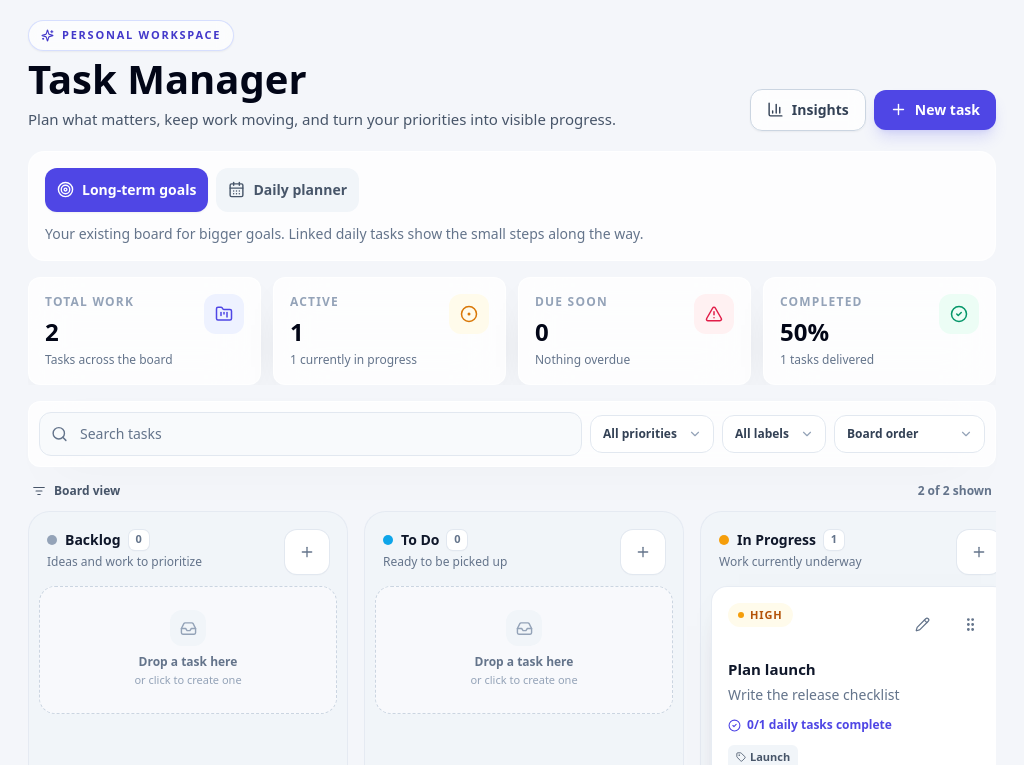
reschedules and unlinks daily work without hiding the saved task
Expected: the heading "Plan launch" is shown, left=728, top=658, right=816, bottom=678
Click the button "Daily planner". click: click(288, 190)
box: left=216, top=168, right=359, bottom=212
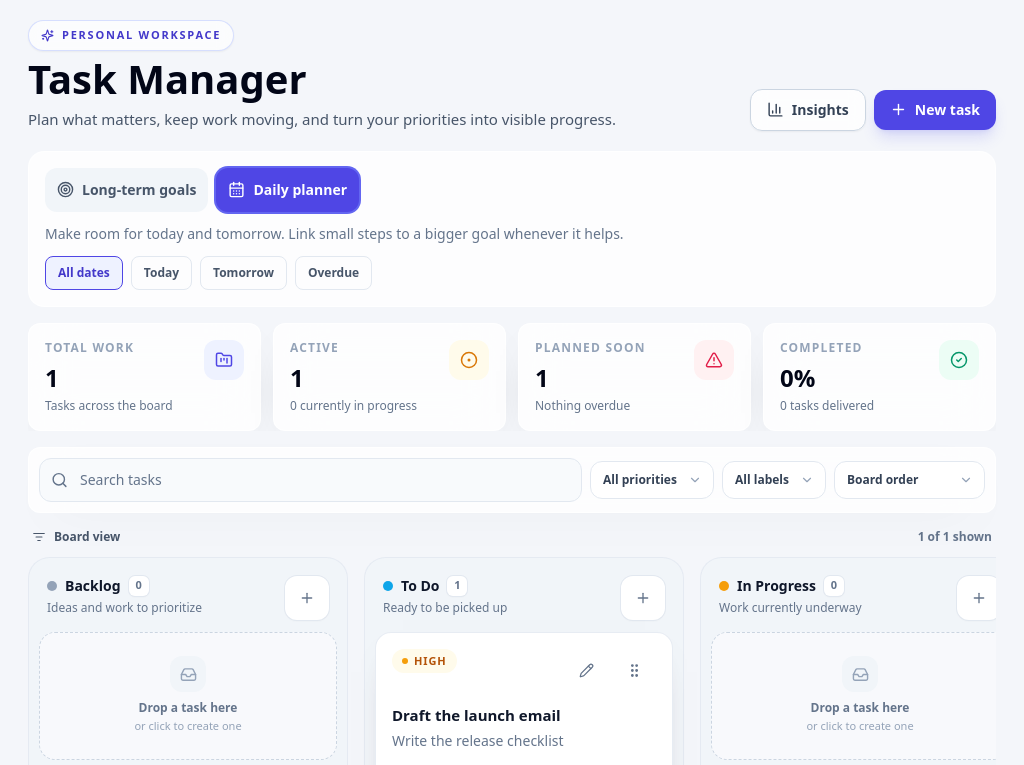
Click the button "Today". click: click(161, 272)
box: left=131, top=256, right=192, bottom=290
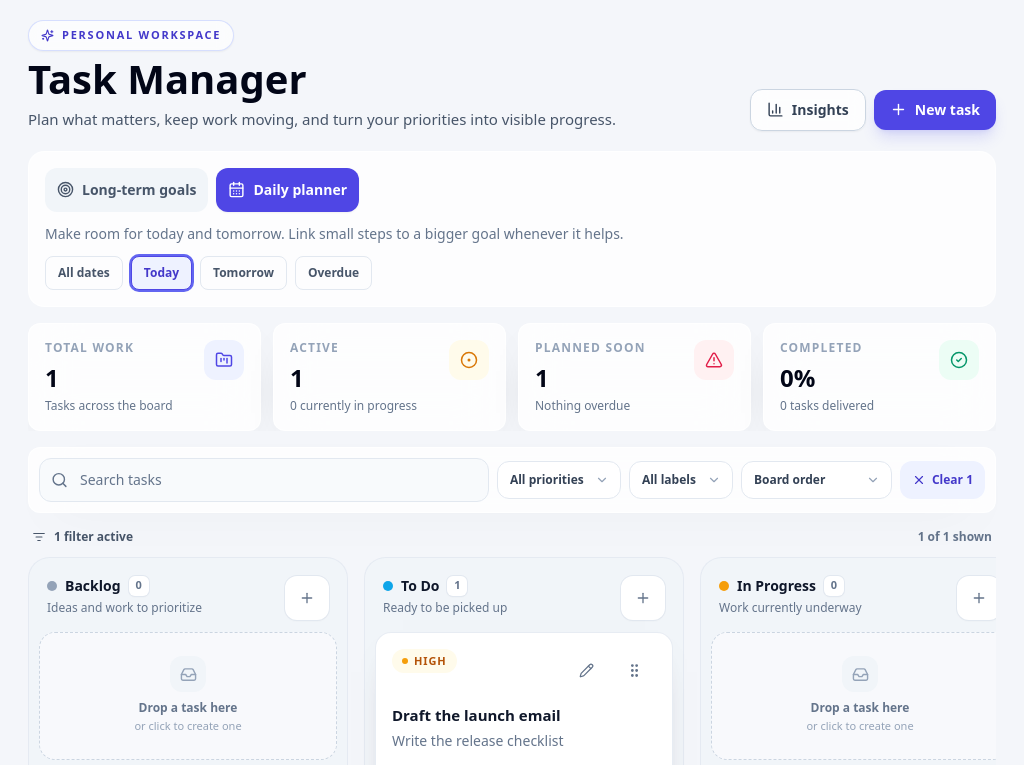
Click the button named "Edit Draft the launch email". click: click(586, 670)
box: left=564, top=648, right=608, bottom=692
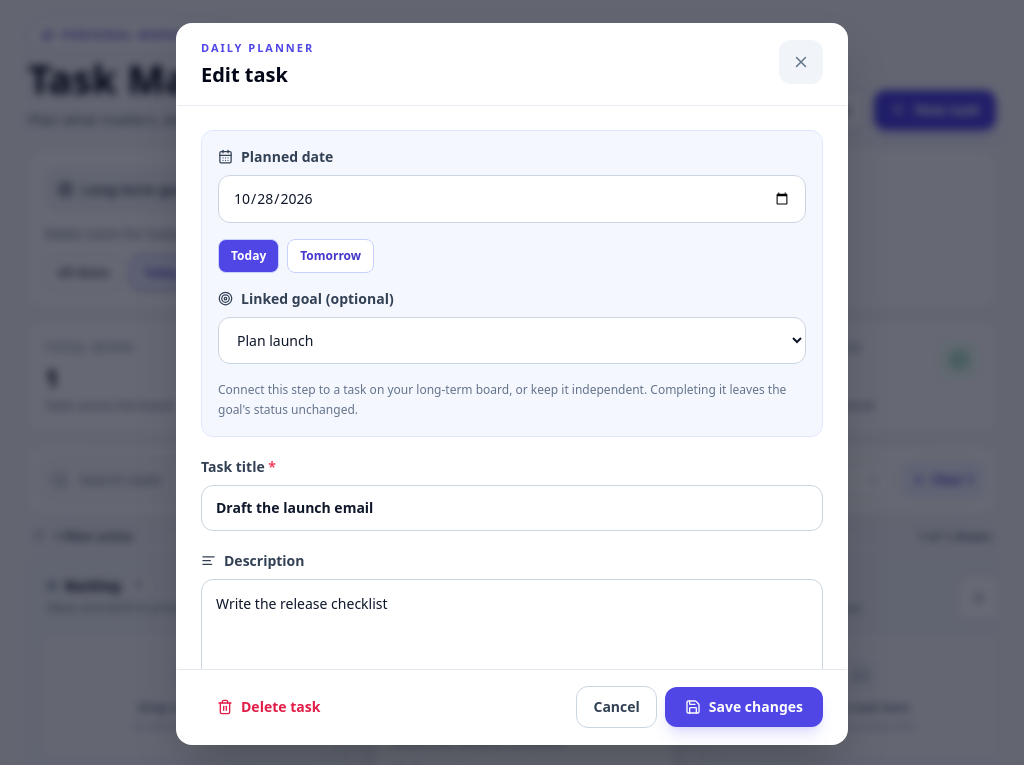
Click the button "Tomorrow". click: click(331, 256)
box: left=287, top=238, right=374, bottom=272
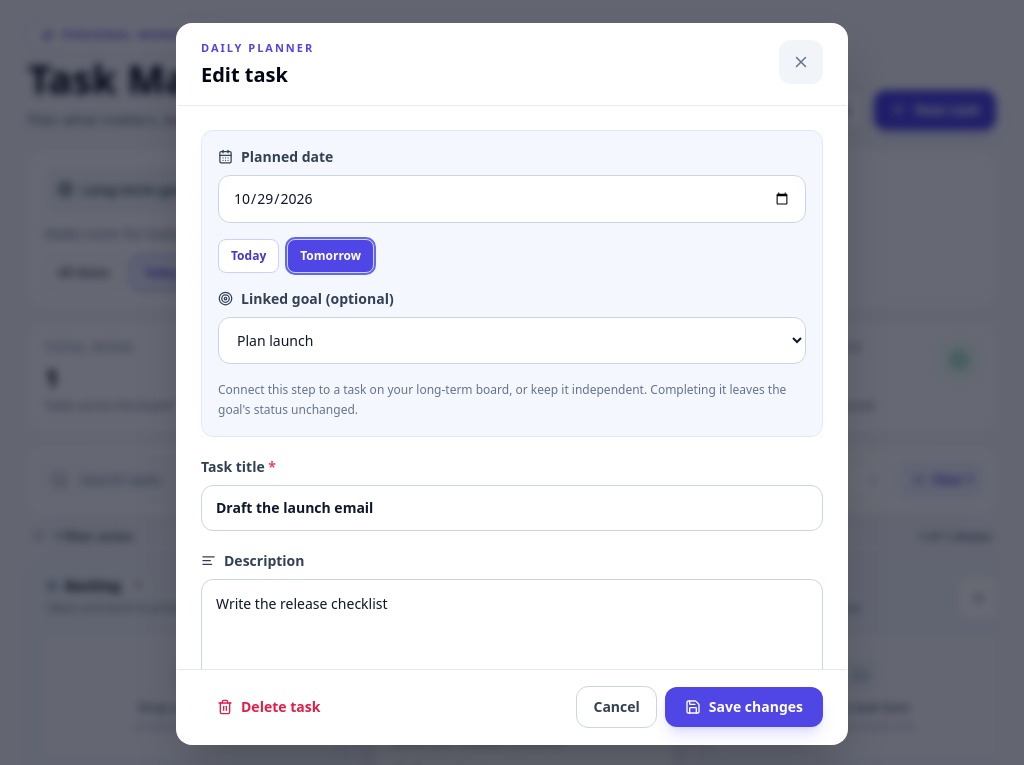
Select "No linked goal" in the dropdown labelled "Linked goal (optional)". click: (512, 340)
box: left=218, top=316, right=806, bottom=364
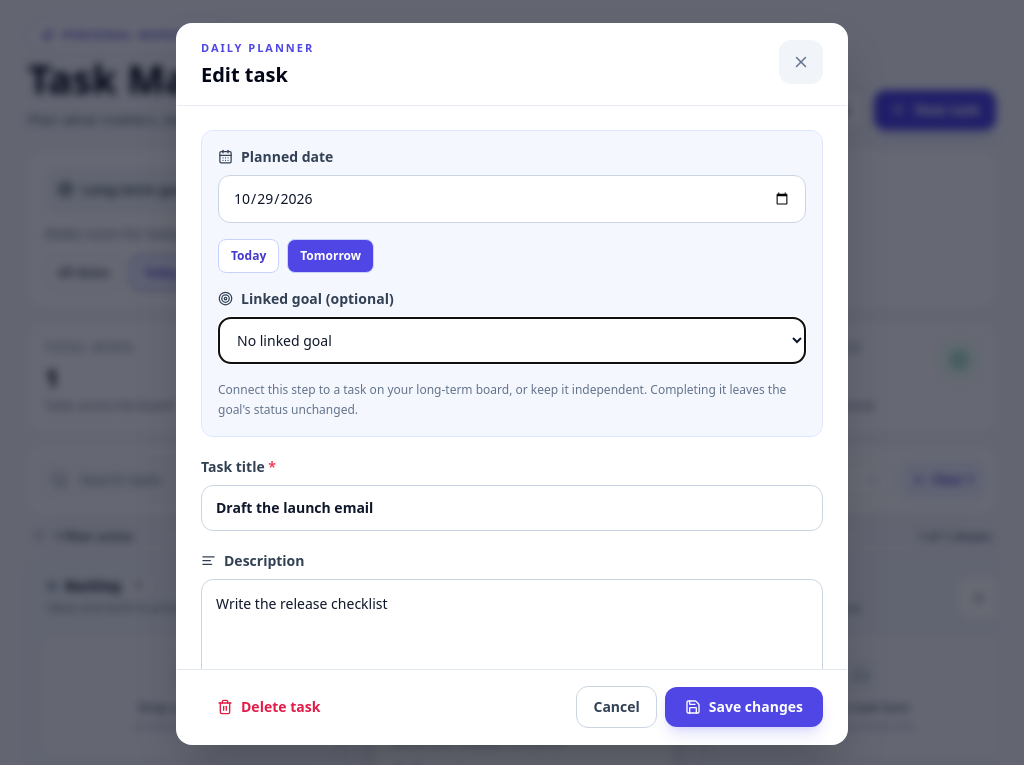
Click the button "Save changes". click: click(744, 707)
box: left=665, top=687, right=823, bottom=727
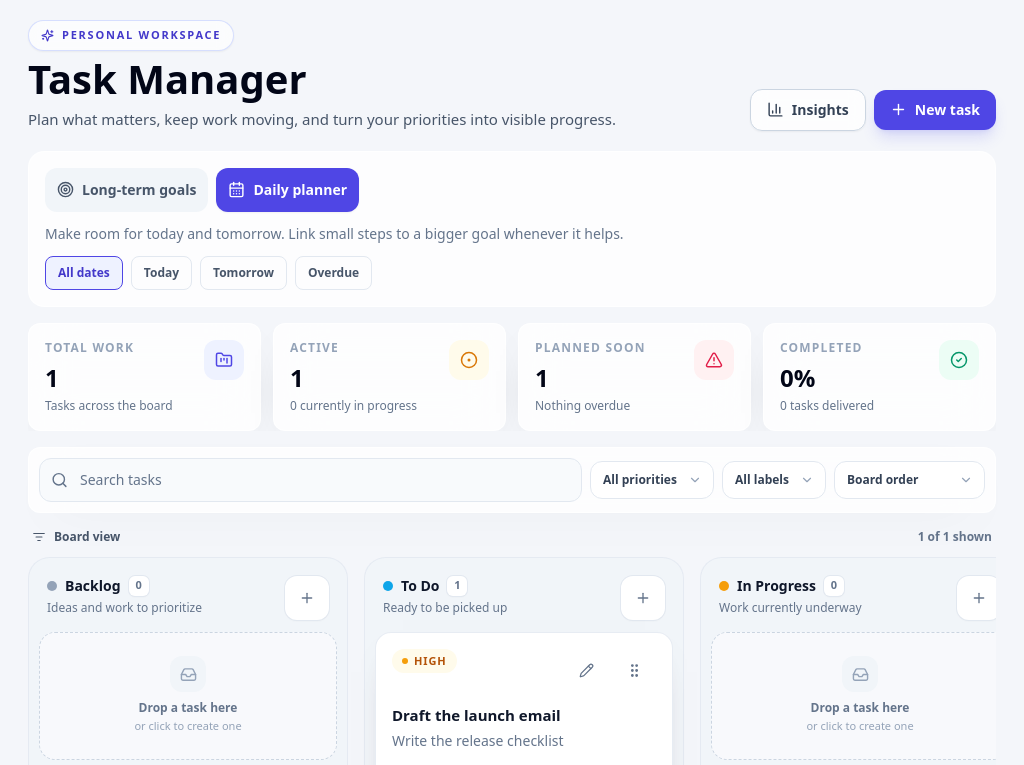
Expected: the heading "Draft the launch email" is shown, left=392, top=704, right=561, bottom=724
Expected: the dialog is gone
